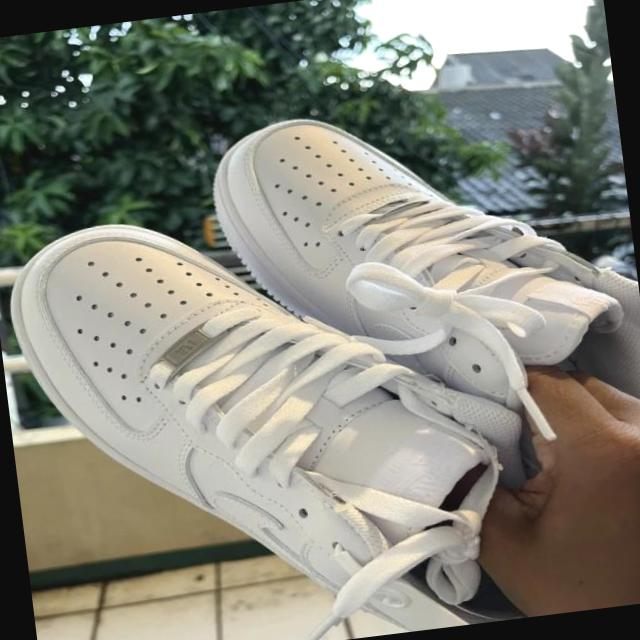nike_original_airforce: (0, 172, 577, 640), (198, 79, 640, 468)
